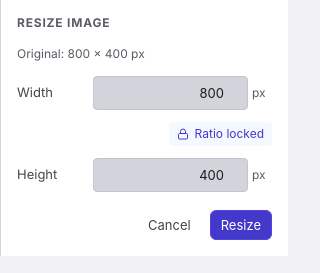
it: ResizeDialog — aspect ratio › keeps the ratio when the height changes
Replace the text in the number field labelled "Height px" with "100": (170, 175) [93, 158, 248, 192]
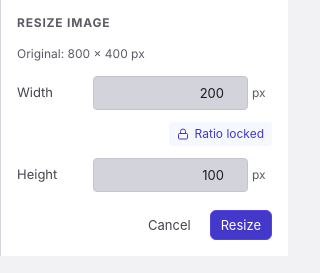
Result: the number field labelled "Width px" holds "200" at [93, 76, 248, 110]
